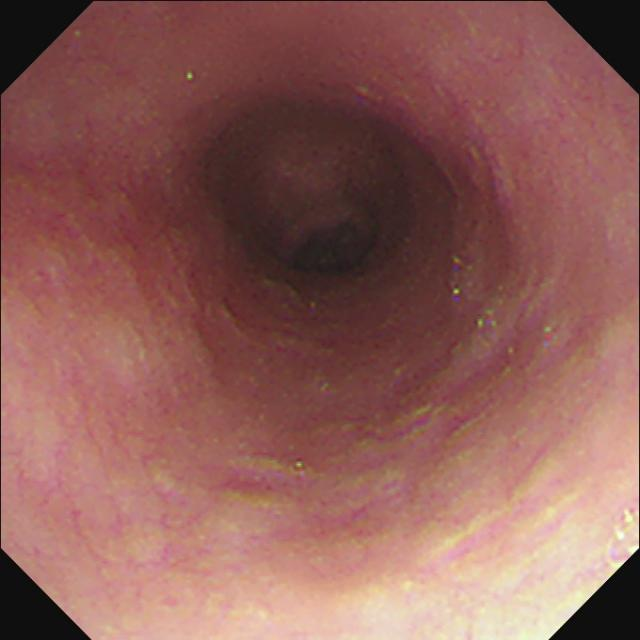E: (211, 100, 410, 283)
